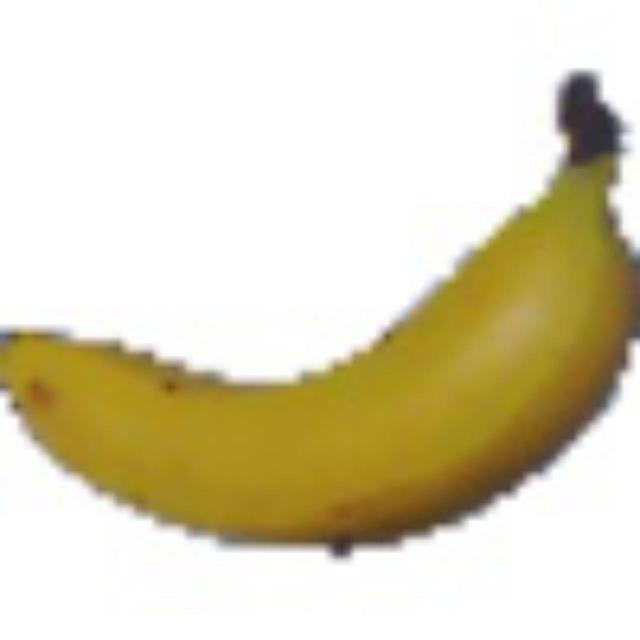banana: (2, 66, 640, 557)
